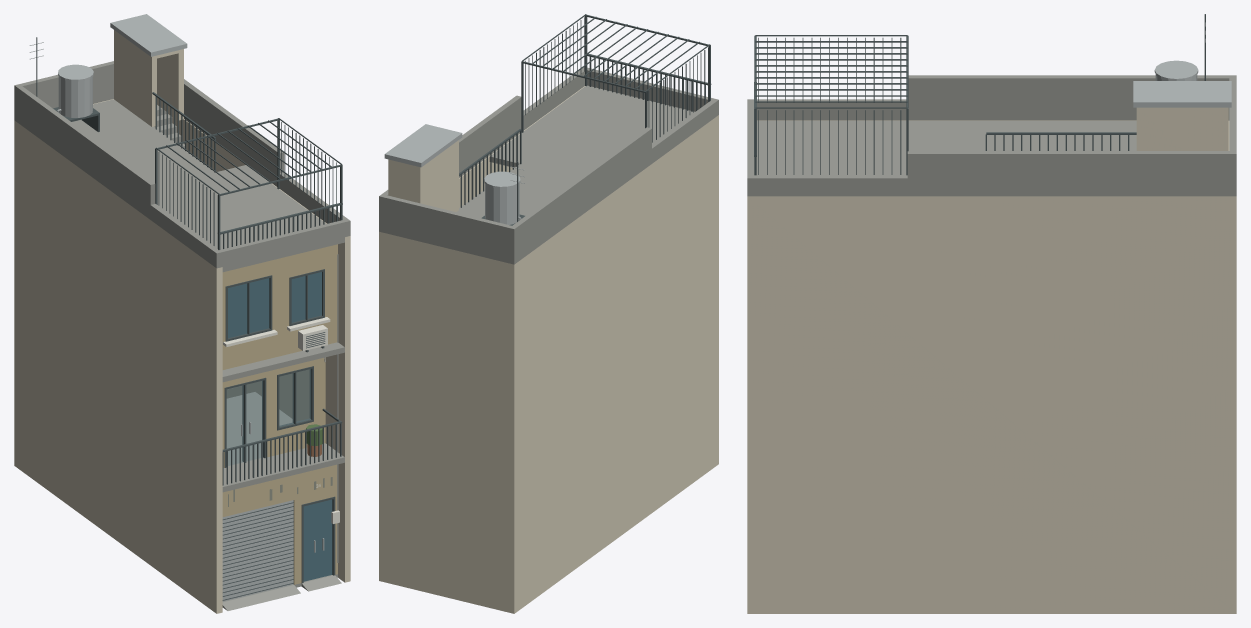
File: VN_RES_A_001.fbx
3 views of the same model, side by side, from view 1: azimuth 30°, elevation 25°; view 2: azimuth 150°, elevation 25°; view 3: azimuth 270°, elevation 25° (orthographic). The views are drawn at different scales.
Parts seen in each view (by area): view 1: VN_RES_A_001__Party_Walls, VN_RES_A_001__Slab_03, VN_RES_A_001__Terrace_Parapets, VN_RES_A_001__Rear_Terrace_Guards, VN_RES_A_001__Upper_Facade, VN_RES_A_001__Shutter, VN_RES_A_001__Stair_Head_Walls, VN_RES_A_001__Slab_01, VN_RES_A_001__Ground_Facade, VN_RES_A_001__Balcony_Facade, VN_RES_A_001__Cage_Side_Upper_Bars, VN_RES_A_001__Shutter_Ribs (+24 smaller); view 2: VN_RES_A_001__Party_Walls, VN_RES_A_001__Slab_03, VN_RES_A_001__Rear_Terrace_Guards, VN_RES_A_001__Terrace_Parapets, VN_RES_A_001__Stair_Head_Walls, VN_RES_A_001__Cage_Side_Upper_Bars, VN_RES_A_001__Cage_Overhead_Grid, VN_RES_A_001__Head_Roof, VN_RES_A_001__Roof_Cage_Front_Pickets, VN_RES_A_001__Water_Tank, VN_RES_A_001__Stair_Guard_Posts_03, VN_RES_A_001__Cage_Upper_Rails (+2 smaller); view 3: VN_RES_A_001__Party_Walls, VN_RES_A_001__Terrace_Parapets, VN_RES_A_001__Rear_Terrace_Guards, VN_RES_A_001__Slab_03, VN_RES_A_001__Stair_Head_Walls, VN_RES_A_001__Cage_Overhead_Grid, VN_RES_A_001__Cage_Side_Upper_Bars, VN_RES_A_001__Head_Roof, VN_RES_A_001__Tank_Lid.
Part boxes in pixels (x1,y1,x2,y2): VN_RES_A_001__Party_Walls: (14,99,350,613); VN_RES_A_001__Slab_03: (71,99,344,272); VN_RES_A_001__Terrace_Parapets: (14,104,350,268); VN_RES_A_001__Rear_Terrace_Guards: (14,61,284,204); VN_RES_A_001__Upper_Facade: (222,244,337,369); VN_RES_A_001__Shutter: (222,500,293,601); VN_RES_A_001__Stair_Head_Walls: (114,30,183,126); VN_RES_A_001__Slab_01: (222,392,344,492); VN_RES_A_001__Ground_Facade: (222,464,337,584); VN_RES_A_001__Balcony_Facade: (222,357,325,467); VN_RES_A_001__Cage_Side_Upper_Bars: (158,122,340,248); VN_RES_A_001__Shutter_Ribs: (222,502,293,600); VN_RES_A_001__Party_Walls: (379,86,718,613); VN_RES_A_001__Slab_03: (456,85,694,217); VN_RES_A_001__Rear_Terrace_Guards: (379,95,651,264); VN_RES_A_001__Terrace_Parapets: (379,67,718,263); VN_RES_A_001__Stair_Head_Walls: (388,140,458,211); VN_RES_A_001__Cage_Side_Upper_Bars: (525,17,708,142); VN_RES_A_001__Cage_Overhead_Grid: (522,14,710,91); VN_RES_A_001__Head_Roof: (384,124,462,167); VN_RES_A_001__Roof_Cage_Front_Pickets: (589,56,705,111); VN_RES_A_001__Water_Tank: (485,184,519,224); VN_RES_A_001__Stair_Guard_Posts_03: (460,131,521,207); VN_RES_A_001__Cage_Upper_Rails: (522,14,710,92); VN_RES_A_001__Party_Walls: (747,120,1236,613); VN_RES_A_001__Terrace_Parapets: (747,99,1236,196); VN_RES_A_001__Rear_Terrace_Guards: (907,75,1236,196); VN_RES_A_001__Slab_03: (754,121,1136,175); VN_RES_A_001__Stair_Head_Walls: (1136,107,1228,150); VN_RES_A_001__Cage_Overhead_Grid: (755,35,907,108); VN_RES_A_001__Cage_Side_Upper_Bars: (758,37,901,174); VN_RES_A_001__Head_Roof: (1133,81,1231,107); VN_RES_A_001__Tank_Lid: (1154,60,1198,80).
Size of the model in its own units: 4.2 by 13.06 by 11.
